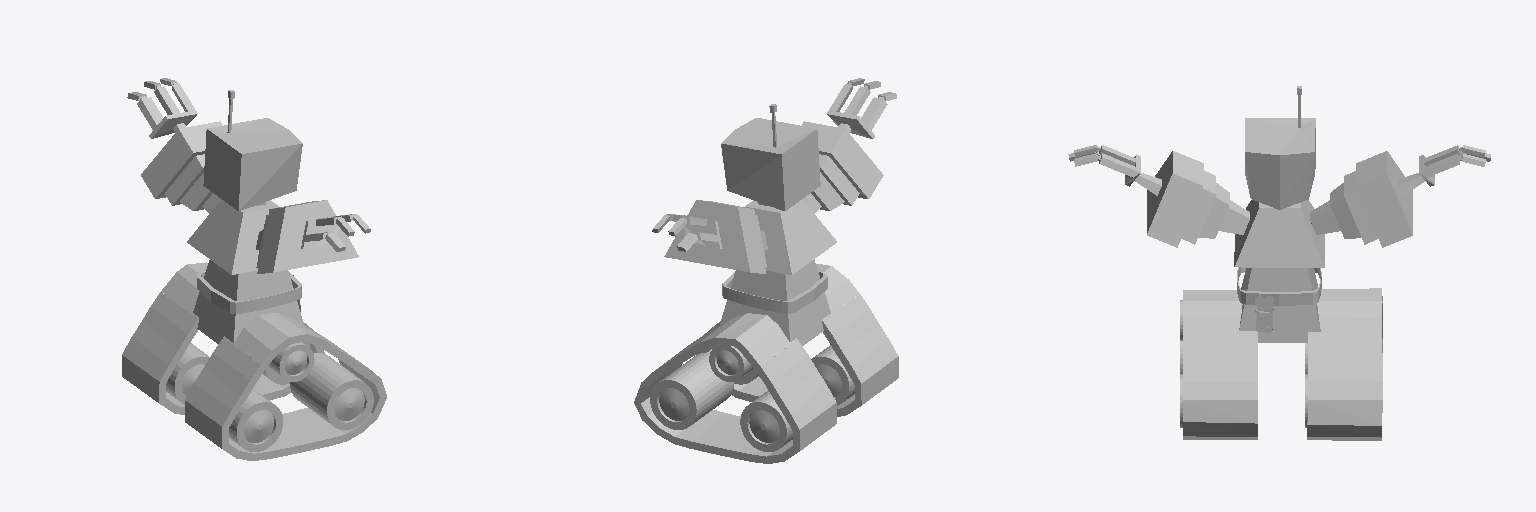
Rendered from crank.obj.
3 views of the same model, side by side, from view 1: azimuth 30°, elevation 25°; view 2: azimuth 150°, elevation 25°; view 3: azimuth 270°, elevation 25° (orthographic).
Parts seen in each view (by area): view 1: Plane.002; view 2: Plane.002; view 3: Plane.002.
Part boxes in pixels (x1,y1,x2,y2): Plane.002: (122, 78, 386, 460); Plane.002: (634, 78, 898, 463); Plane.002: (1068, 86, 1490, 440).
Bounding box in the file's own units: 1.01 × 1.88 × 2.22.